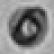correct: (5, 0, 50, 48)
